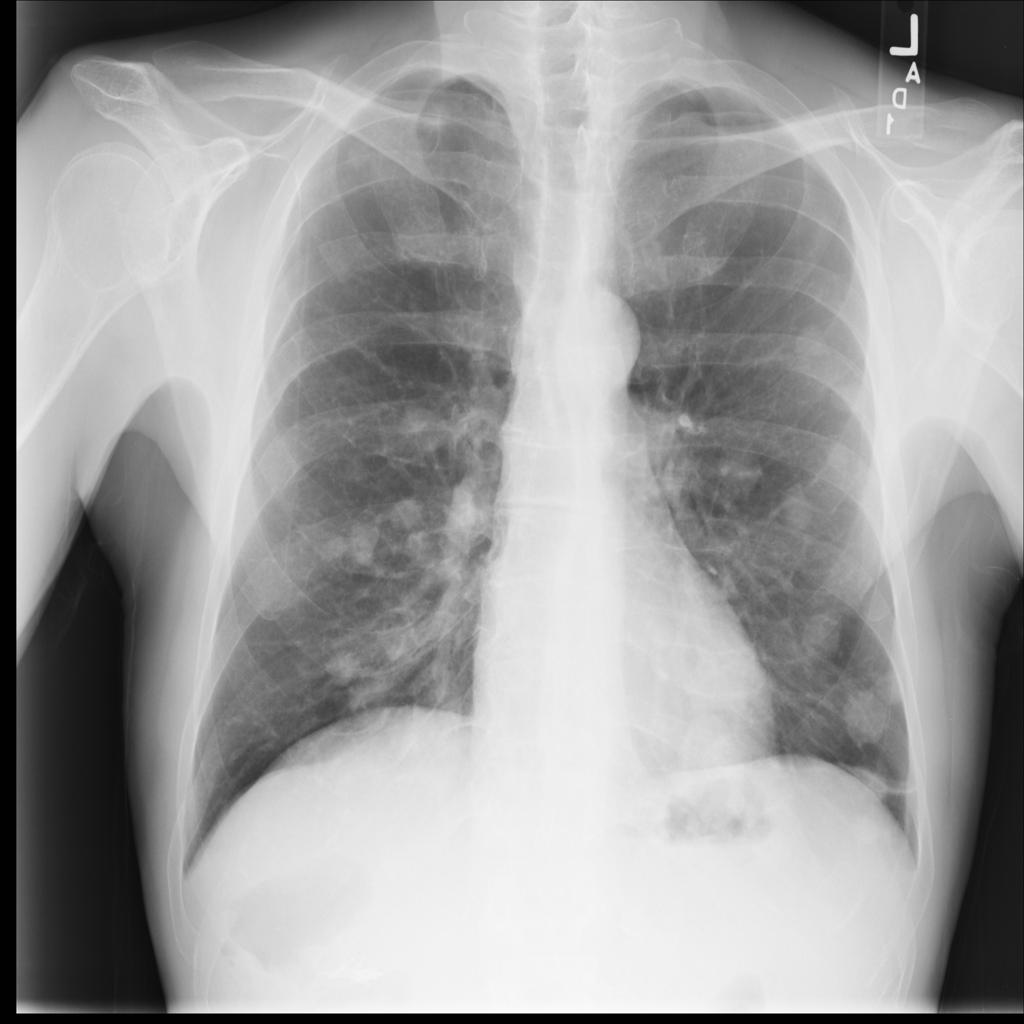nodule: (670, 711, 747, 792), (831, 674, 902, 750), (400, 656, 469, 730), (830, 755, 901, 826), (389, 391, 457, 465), (791, 592, 855, 670), (778, 303, 845, 377), (852, 650, 917, 726), (709, 431, 773, 508), (314, 506, 381, 579), (775, 479, 822, 542), (822, 369, 875, 423), (318, 644, 374, 694), (325, 438, 375, 490), (333, 131, 383, 180), (815, 431, 864, 481), (381, 489, 429, 539)
